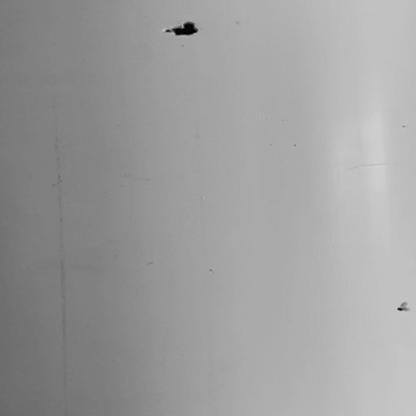kongdong: (156, 14, 213, 44), (386, 291, 413, 316)
